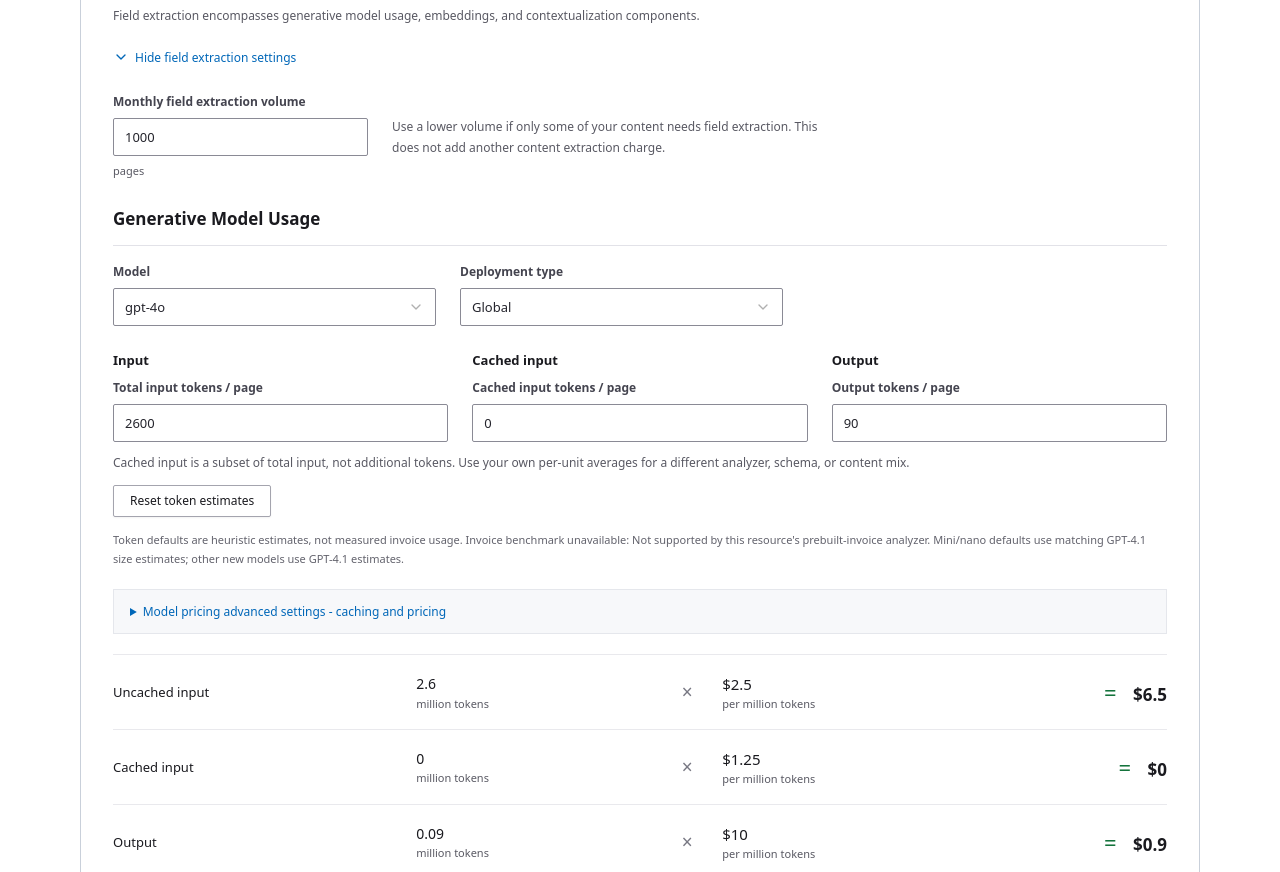
Pricing calculator UI › honors zero input/output tokens
(page scrolled)
Replace the text in the number field labelled "Total input tokens / page" with "0" at (281, 422), box [113,404,448,442]
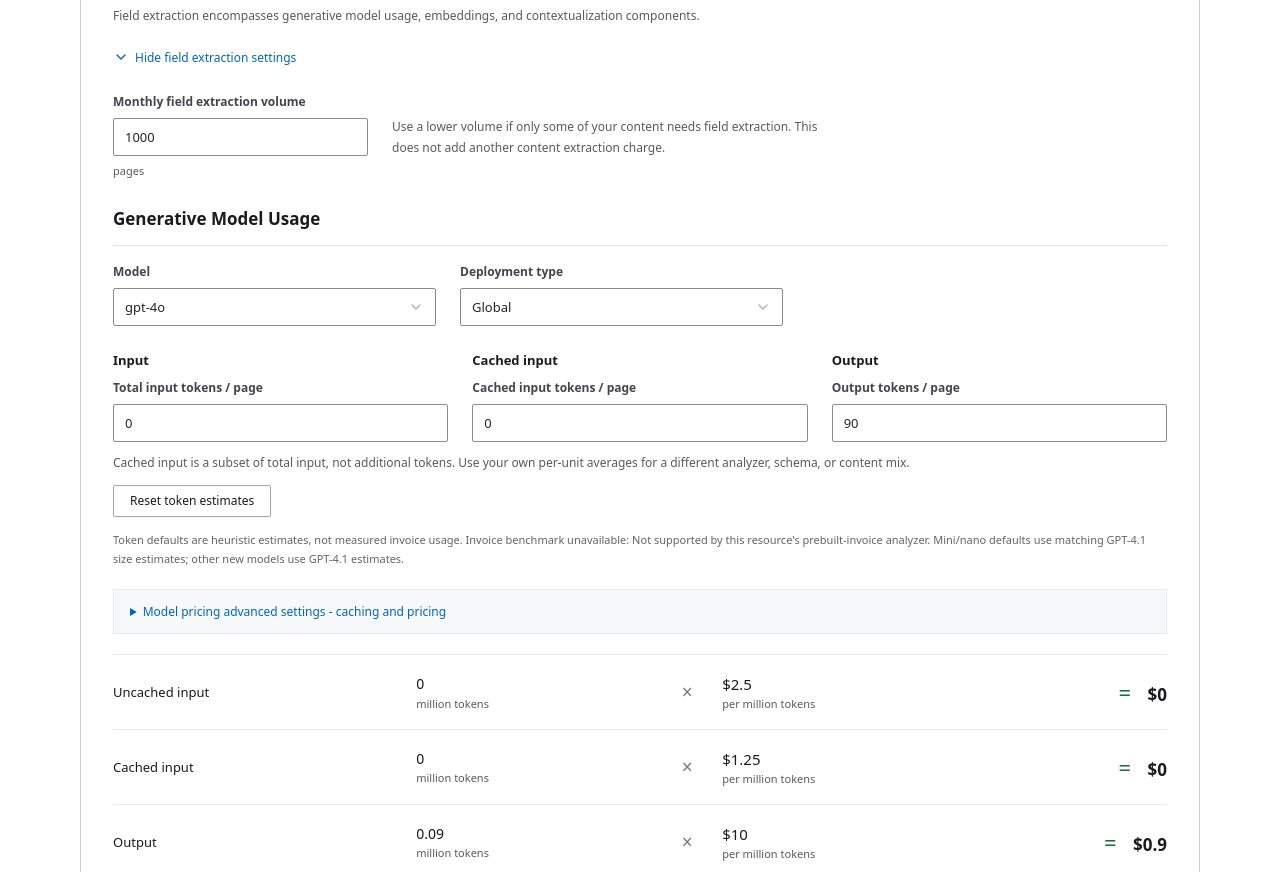
Replace the text in the number field labelled "Output tokens / page" with "0" at (999, 422), box [832,404,1167,442]
(page scrolled)
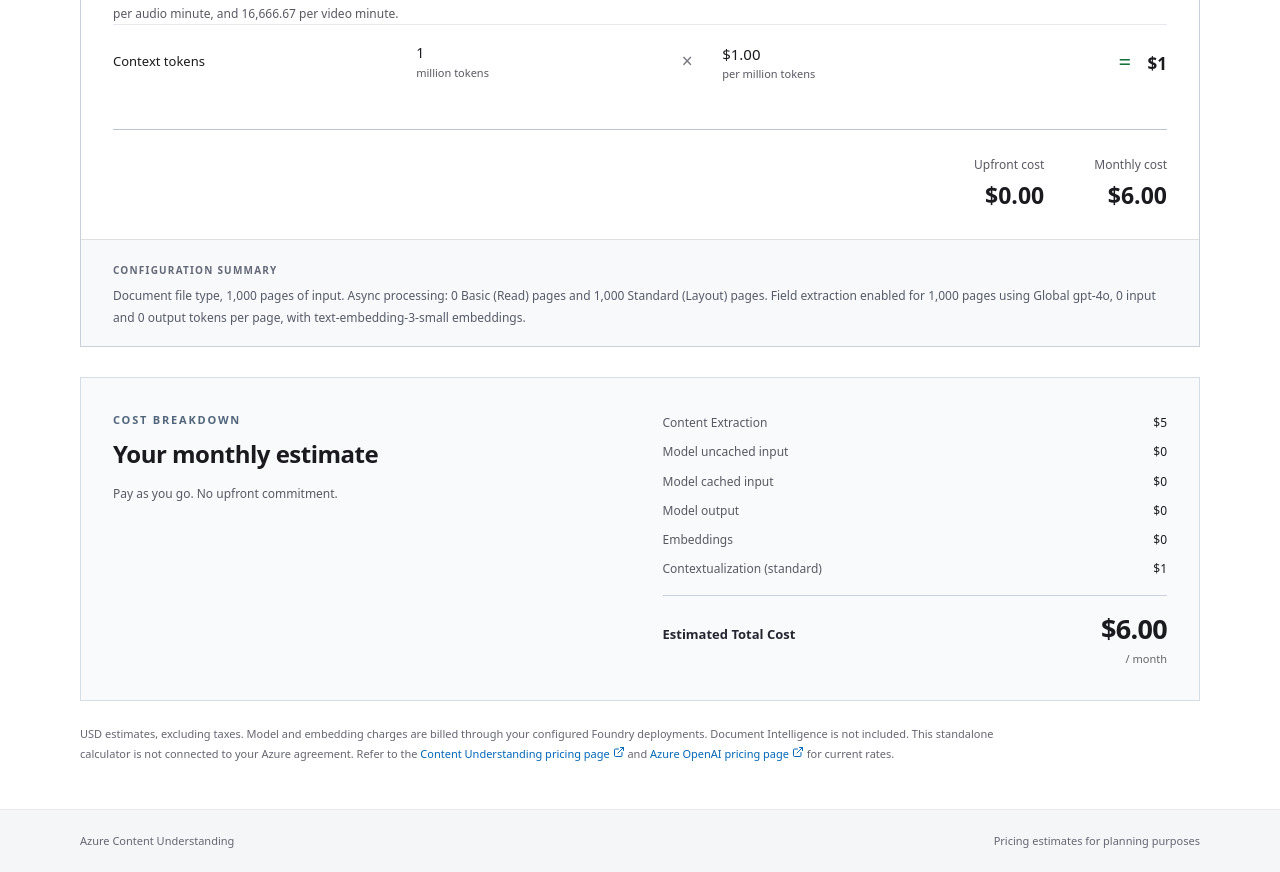
Check: the text "$6.00" is shown, box [1101,610,1167,647]
